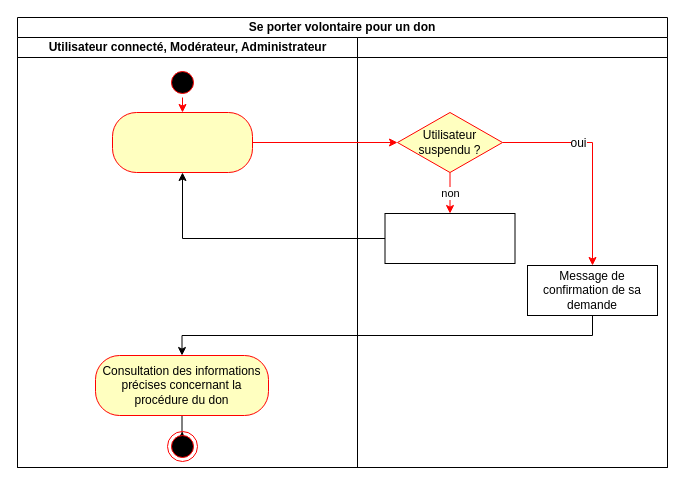
The diagram is 685 pixels wide and 485 high, and some of its shapes have lost their labels. Here are the shapes that lost their labels. From the top down, the box of each, then its label:
(112, 112, 252, 172): Cliquer sur le contrôle d'accès de candidature à un don
(384, 212, 515, 264): Message de rejet de sa demande avec la cause du rejet
(356, 36, 668, 468): Système
